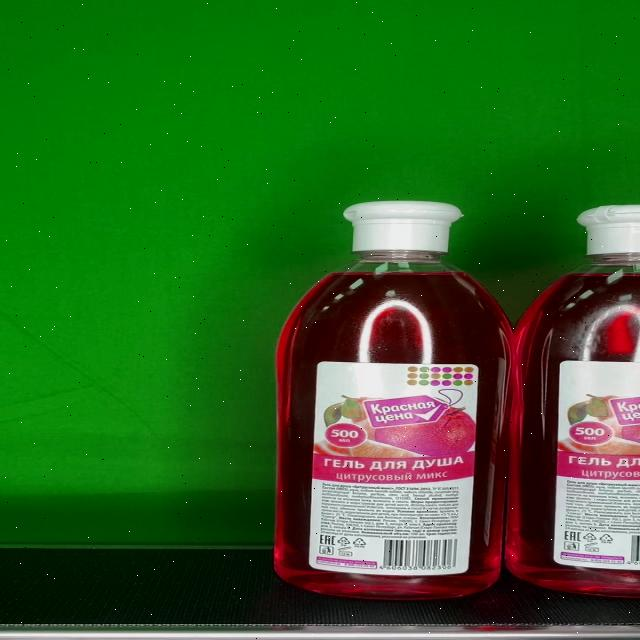Bottle: (273, 200, 518, 600)
Cap: (342, 201, 463, 253)
